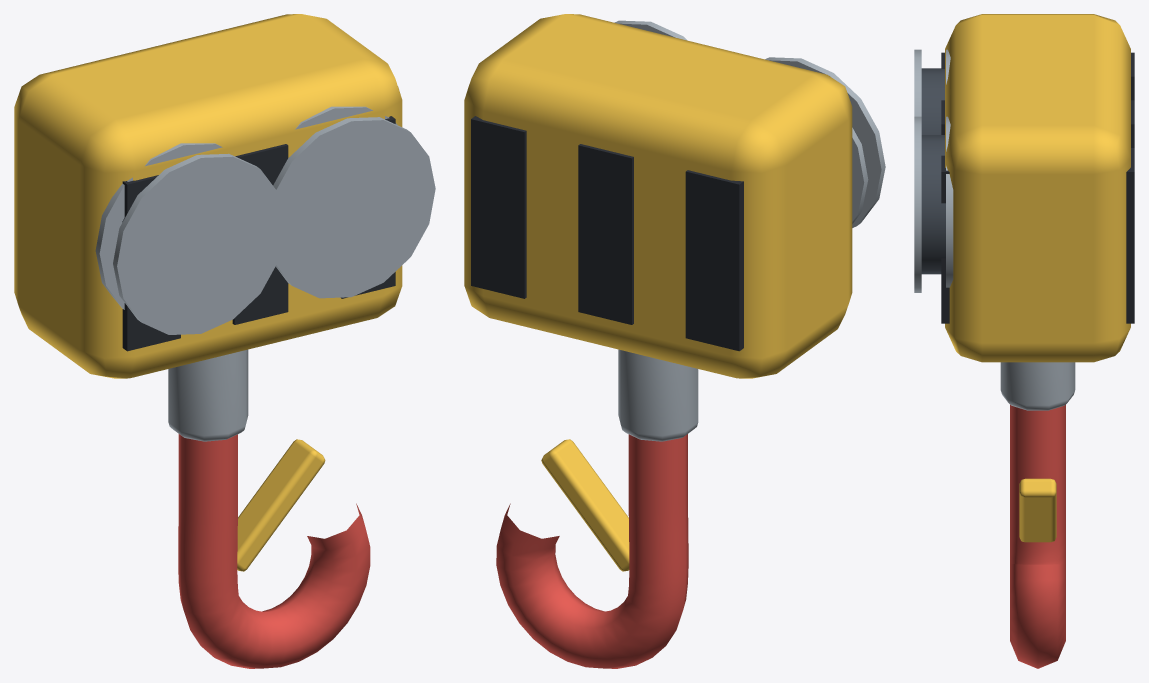
Rendered from ponte_gancho.glb.
The picture shows the model from 3 angles, left to right: view 1: azimuth 30°, elevation 25°; view 2: azimuth 150°, elevation 25°; view 3: azimuth 270°, elevation 25°; orthographic projection. The views are drawn at different scales.
Parts seen in each view (by area): view 1: carcaca, flange_polia (×4), gancho, pescoco, trava, faixa (×2); view 2: carcaca, faixa (×3), gancho, pescoco, trava, flange_polia (×2); view 3: carcaca, gancho, polia (×2), pescoco, flange_polia (×3), trava, faixa.
Boxes of the visible parts, bbox=[...] form: carcaca: bbox=[14, 14, 402, 378]; flange_polia (×4): bbox=[95, 106, 435, 334]; gancho: bbox=[178, 434, 370, 668]; pescoco: bbox=[168, 349, 248, 441]; trava: bbox=[237, 439, 325, 571]; faixa (×2): bbox=[122, 144, 288, 351]; carcaca: bbox=[464, 14, 852, 378]; faixa (×3): bbox=[471, 116, 743, 351]; gancho: bbox=[496, 434, 688, 668]; pescoco: bbox=[618, 349, 698, 441]; trava: bbox=[541, 439, 629, 571]; flange_polia (×2): bbox=[765, 57, 885, 227]; carcaca: bbox=[945, 14, 1130, 362]; gancho: bbox=[1010, 404, 1065, 668]; polia (×2): bbox=[921, 68, 945, 274]; pescoco: bbox=[1000, 362, 1075, 410]; flange_polia (×3): bbox=[914, 49, 953, 292]; trava: bbox=[1019, 478, 1056, 542]; faixa: bbox=[941, 148, 1134, 323].
Bounding box in the file's own units: 0.36 × 0.6648 × 0.237.
